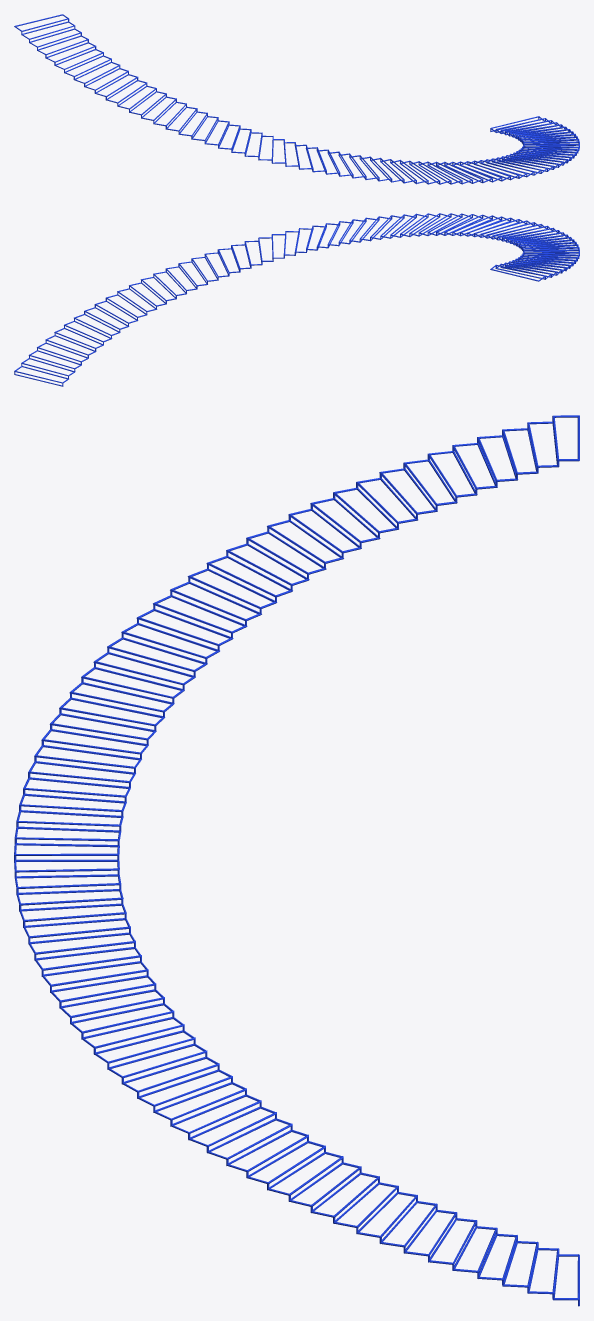
Rendered from stairs_outline.FBX.
The picture shows the model from 3 angles, top to bottom: view 1: azimuth 30°, elevation 25°; view 2: azimuth 150°, elevation 25°; view 3: azimuth 270°, elevation 25°; orthographic projection. The views are drawn at different scales.
Parts seen in each view (by area): view 1: stairs_outline; view 2: stairs_outline; view 3: stairs_outline.
Boxes of the visible parts, x1=… form: stairs_outline: x1=14, y1=14, x2=579, y2=184; stairs_outline: x1=14, y1=213, x2=579, y2=386; stairs_outline: x1=14, y1=415, x2=579, y2=1306.
Size of the model in its own units: 24.53 by 9.93 by 12.29.
